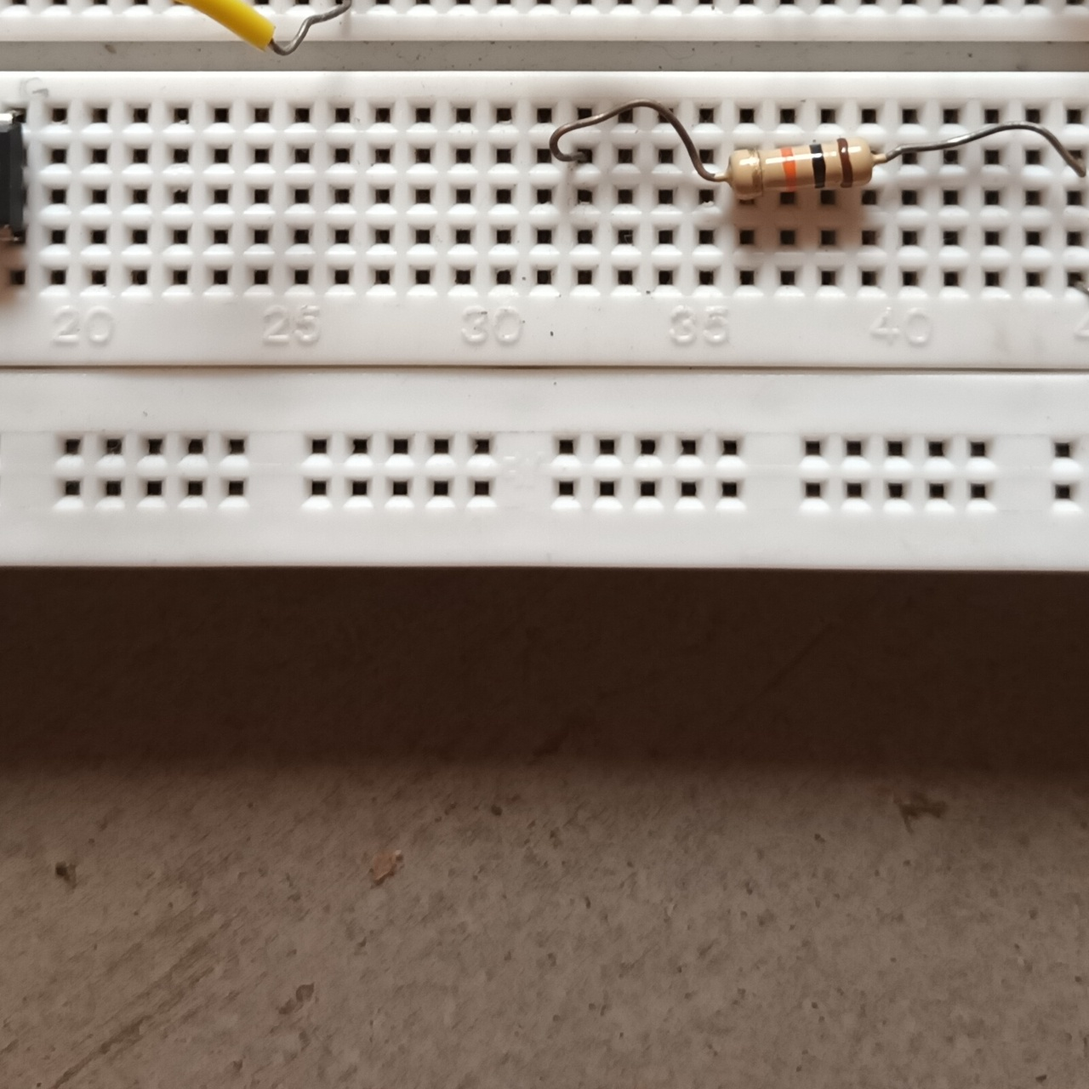resistor: (726, 135, 877, 204)
